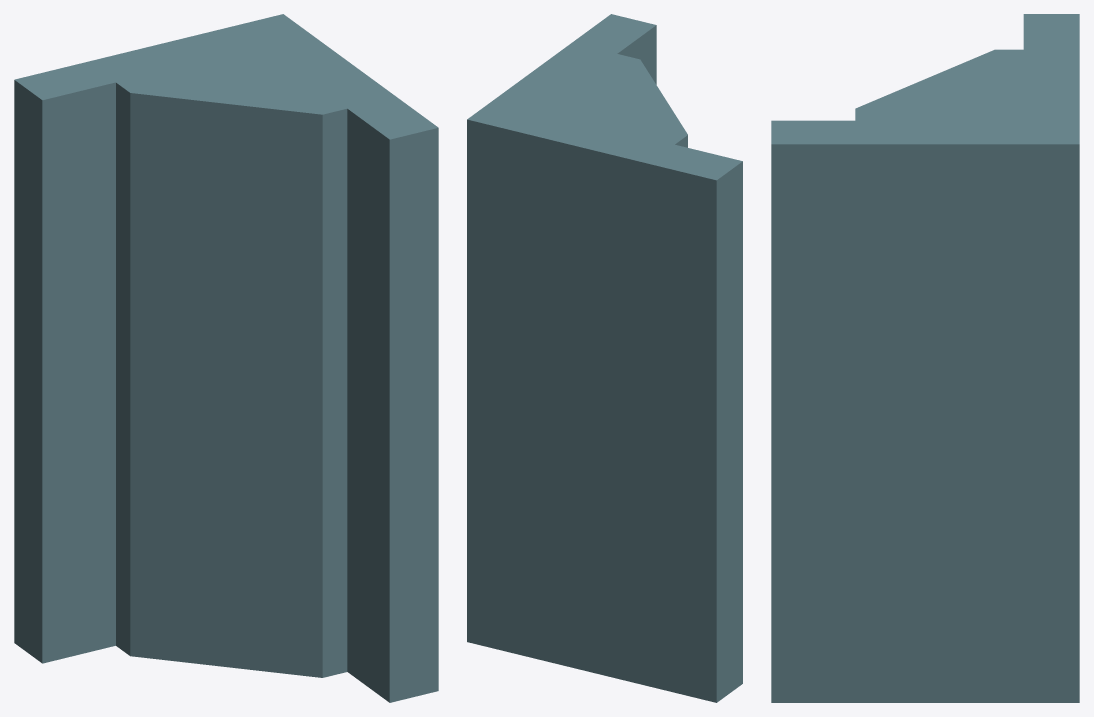
Rendered from W1_WallCorner_Angular2B.fbx.
3 views of the same model, side by side, from view 1: azimuth 30°, elevation 25°; view 2: azimuth 150°, elevation 25°; view 3: azimuth 270°, elevation 25° (orthographic). The views are drawn at different scales.
Visible parts, largest first — view 1: W1_WallCorner_Angular2B.001; view 2: W1_WallCorner_Angular2B.001; view 3: W1_WallCorner_Angular2B.001.
Part boxes in pixels (x1,y1,x2,y2): W1_WallCorner_Angular2B.001: (14, 14, 438, 702); W1_WallCorner_Angular2B.001: (467, 14, 742, 702); W1_WallCorner_Angular2B.001: (771, 14, 1079, 702).
Size of the model in its own units: 1.1 by 2.2 by 1.1.
